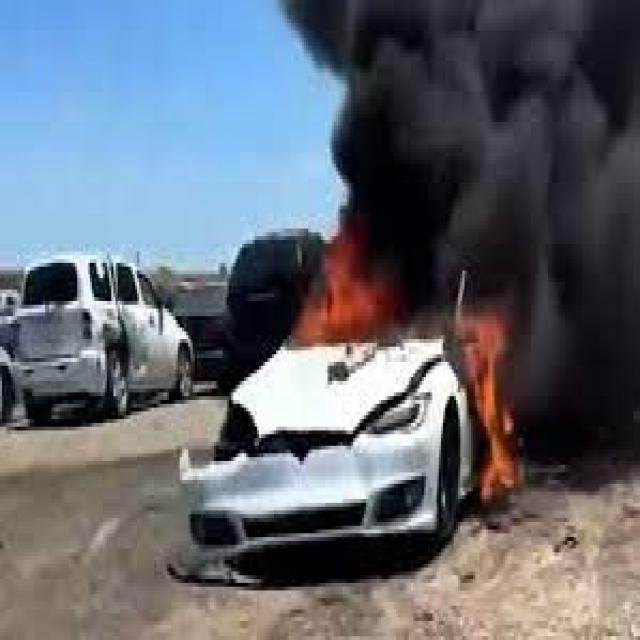fire: (287, 225, 404, 346), (450, 305, 520, 503)
smoke: (280, 4, 636, 297), (507, 145, 640, 495)
